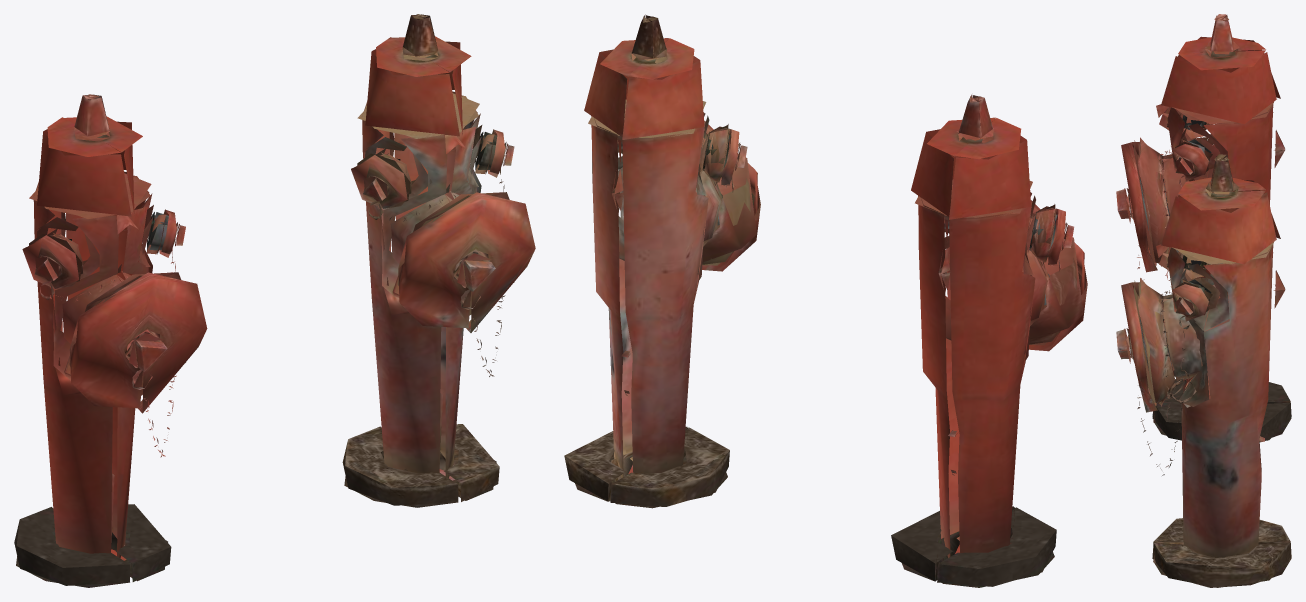
The model's file is fire_hydrant.glb.
The picture shows the model from 3 angles, left to right: view 1: azimuth 30°, elevation 25°; view 2: azimuth 150°, elevation 25°; view 3: azimuth 270°, elevation 25°; orthographic projection. The views are drawn at different scales.
Parts seen in each view (by area): view 1: fire_hydrant_aged, fire_hydrant, fire_hydrant_cap_01, fire_hydrant_cap_01_aged, fire_hydrant_cap_03_aged, fire_hydrant_cap_03, fire_hydrant_cap_02_aged, fire_hydrant_cap_02; view 2: fire_hydrant, fire_hydrant_aged, fire_hydrant_cap_01_aged, fire_hydrant_cap_01, fire_hydrant_cap_03, fire_hydrant_cap_03_aged; view 3: fire_hydrant_aged, fire_hydrant, fire_hydrant_cap_01_aged, fire_hydrant_cap_01, fire_hydrant_cap_02, fire_hydrant_cap_02_aged, fire_hydrant_chain_aged.
Boxes of the visible parts, x1=… form: fire_hydrant_aged: x1=342, y1=14, x2=514, y2=507; fire_hydrant: x1=14, y1=94, x2=185, y2=587; fire_hydrant_cap_01: x1=69, y1=272, x2=207, y2=413; fire_hydrant_cap_01_aged: x1=398, y1=192, x2=535, y2=332; fire_hydrant_cap_03_aged: x1=351, y1=153, x2=410, y2=208; fire_hydrant_cap_03: x1=22, y1=233, x2=81, y2=288; fire_hydrant_cap_02_aged: x1=485, y1=129, x2=514, y2=177; fire_hydrant_cap_02: x1=157, y1=209, x2=185, y2=257; fire_hydrant: x1=891, y1=94, x2=1083, y2=587; fire_hydrant_aged: x1=564, y1=14, x2=756, y2=508; fire_hydrant_cap_01_aged: x1=702, y1=120, x2=760, y2=271; fire_hydrant_cap_01: x1=1029, y1=200, x2=1087, y2=351; fire_hydrant_cap_03: x1=1043, y1=204, x2=1074, y2=264; fire_hydrant_cap_03_aged: x1=716, y1=124, x2=747, y2=184; fire_hydrant_aged: x1=1138, y1=154, x2=1291, y2=587; fire_hydrant: x1=1138, y1=14, x2=1291, y2=440; fire_hydrant_cap_01_aged: x1=1116, y1=280, x2=1157, y2=412; fire_hydrant_cap_01: x1=1116, y1=140, x2=1157, y2=272; fire_hydrant_cap_02: x1=1172, y1=141, x2=1208, y2=181; fire_hydrant_cap_02_aged: x1=1172, y1=282, x2=1208, y2=321; fire_hydrant_chain_aged: x1=1128, y1=290, x2=1196, y2=475.
Size of the model in its own units: 0.8777 by 0.8007 by 0.3173.
Materials: 2 (2 with a texture image).
